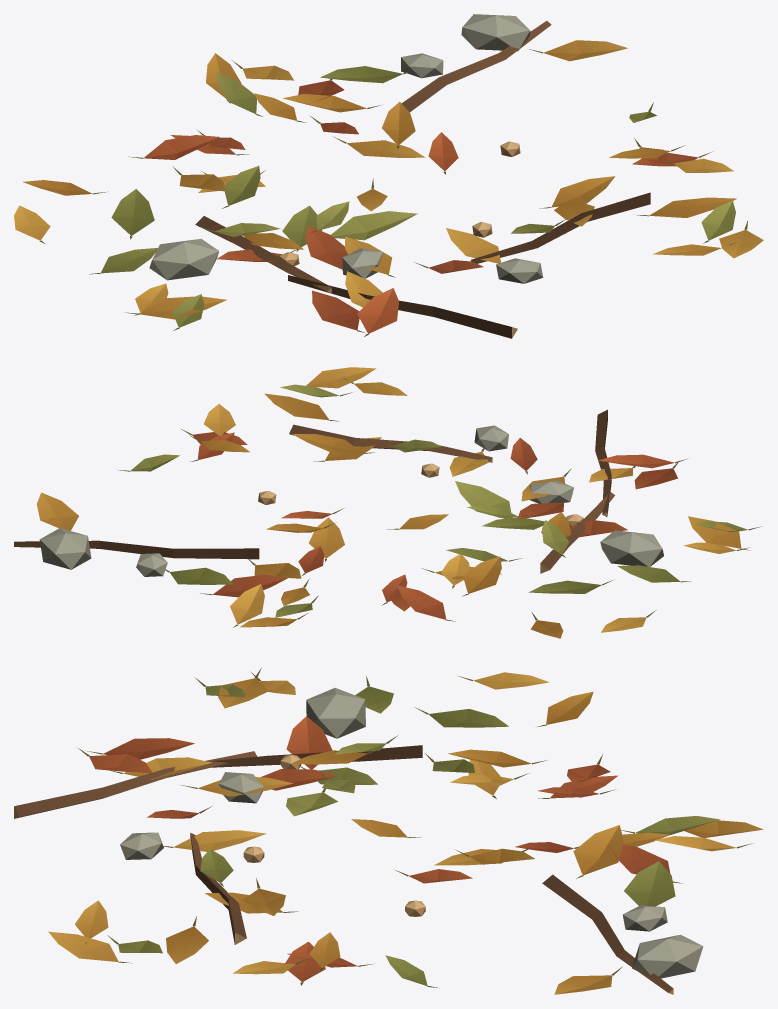
File: litter_leaf_cluster.glb
The picture shows the model from 3 angles, top to bottom: view 1: azimuth 30°, elevation 25°; view 2: azimuth 150°, elevation 25°; view 3: azimuth 270°, elevation 25°; orthographic projection. The views are drawn at different scales.
Parts seen in each view (by area): view 1: litter_leaf_cluster; view 2: litter_leaf_cluster; view 3: litter_leaf_cluster.
Part boxes in pixels (left/top/right/bottom): litter_leaf_cluster: left=14, top=14, right=763, bottom=338; litter_leaf_cluster: left=14, top=367, right=761, bottom=638; litter_leaf_cluster: left=14, top=667, right=763, bottom=994.
Bounding box in the file's own units: 0.7819 × 0.0411 × 0.7387.
Materials: 1 (1 with a texture image).
